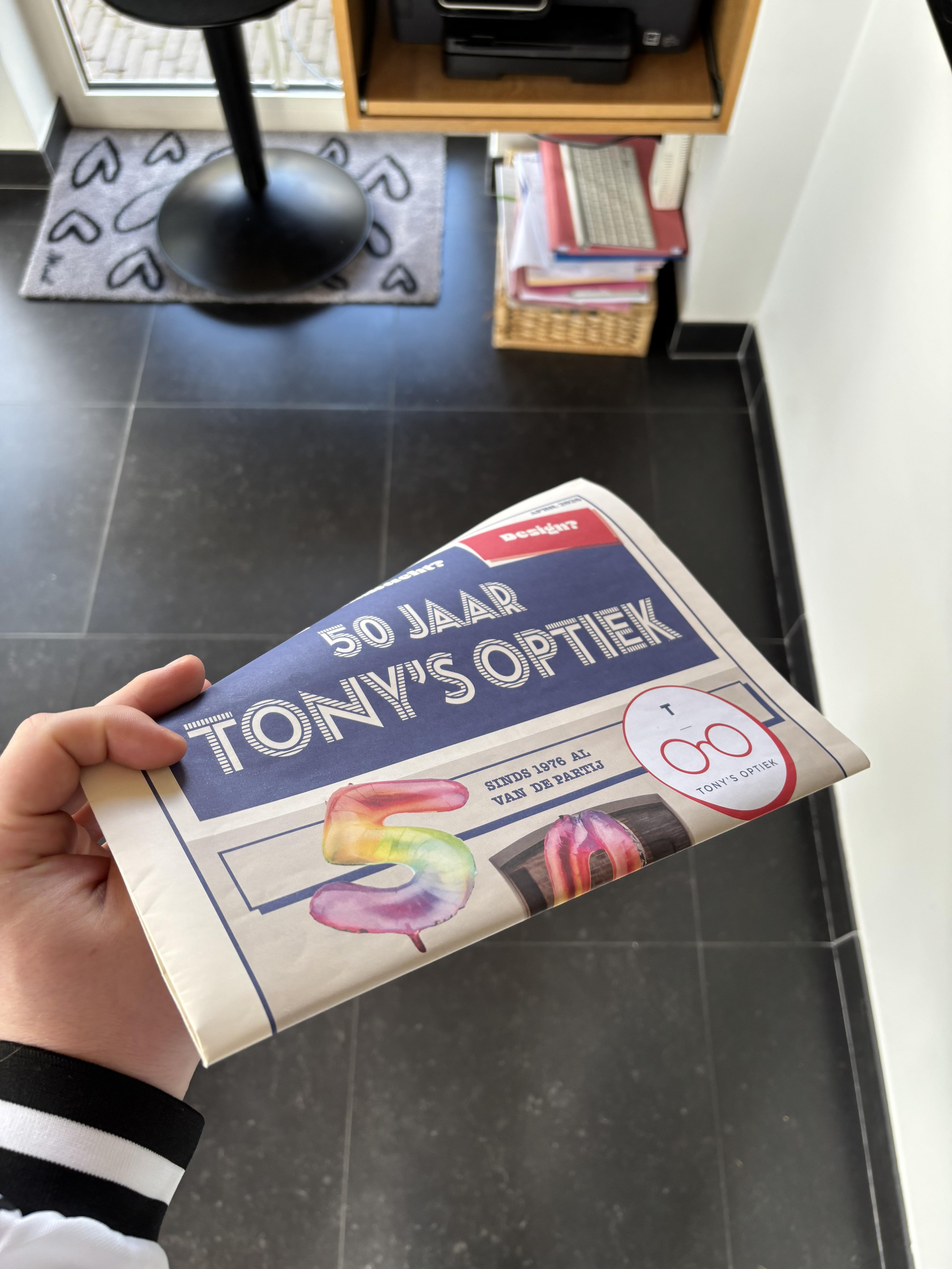Paper: (82, 478, 874, 1068)
